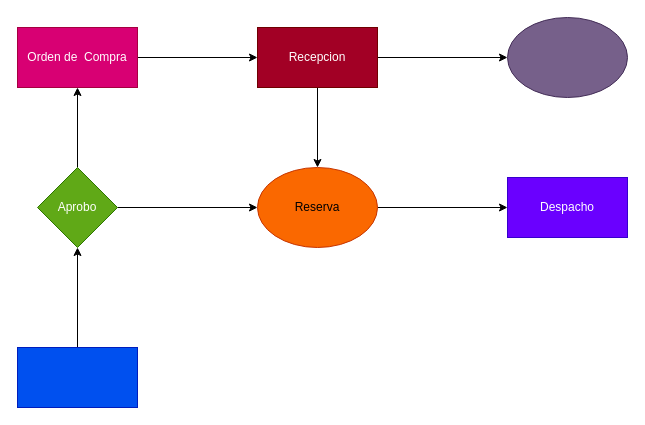
The diagram is 645 pixels wide and 425 high, and some of its shapes have lost their labels. The shapes that lost their labels are listed below. From the top down, each one's centre as x and y in pixels, then its label:
the point at 567,57: Stock
the point at 77,377: Orden de Pedido
